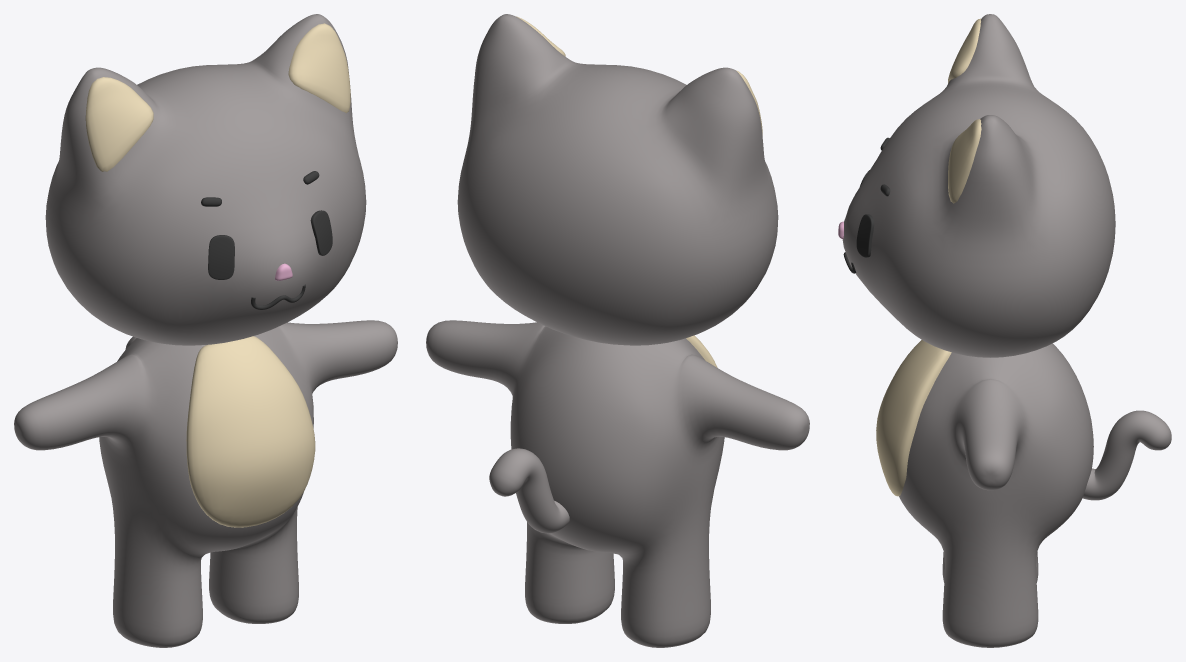
Rendered from cat_01.fbx.
The picture shows the model from 3 angles, left to right: view 1: azimuth 30°, elevation 25°; view 2: azimuth 150°, elevation 25°; view 3: azimuth 270°, elevation 25°; orthographic projection. The views are drawn at different scales.
Parts seen in each view (by area): view 1: Head, Body, Body.001; view 2: Head, Body, tail; view 3: Head, Body, Body.001, tail.
Boxes of the visible parts, bbox=[...] form: Head: bbox=[45, 14, 366, 345]; Body: bbox=[14, 320, 397, 647]; Body.001: bbox=[186, 336, 315, 527]; Head: bbox=[457, 14, 778, 345]; Body: bbox=[426, 320, 809, 647]; tail: bbox=[489, 448, 569, 533]; Head: bbox=[838, 14, 1115, 357]; Body: bbox=[899, 343, 1093, 647]; Body.001: bbox=[876, 340, 951, 496]; tail: bbox=[1082, 410, 1171, 500].
Size of the model in its own units: 219 by 322 by 178.
